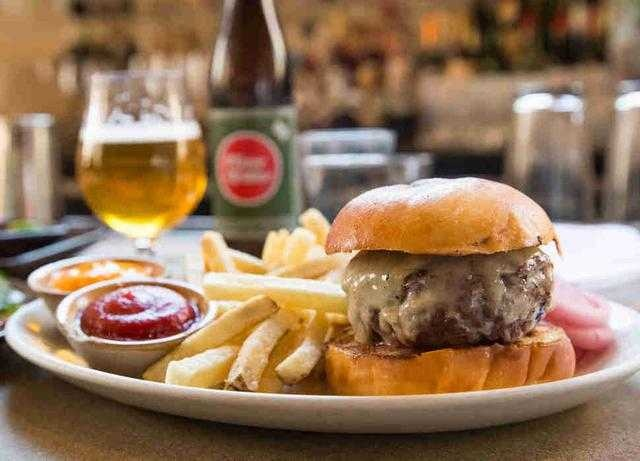hamburger: (309, 167, 588, 406)
